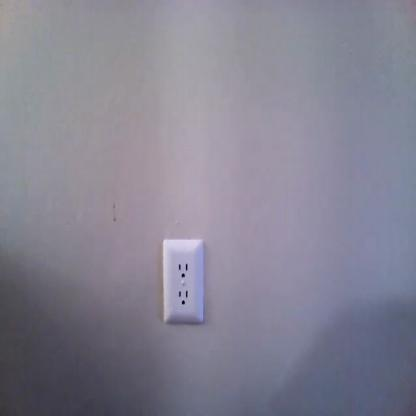OUTLET: (162, 238, 205, 324)
